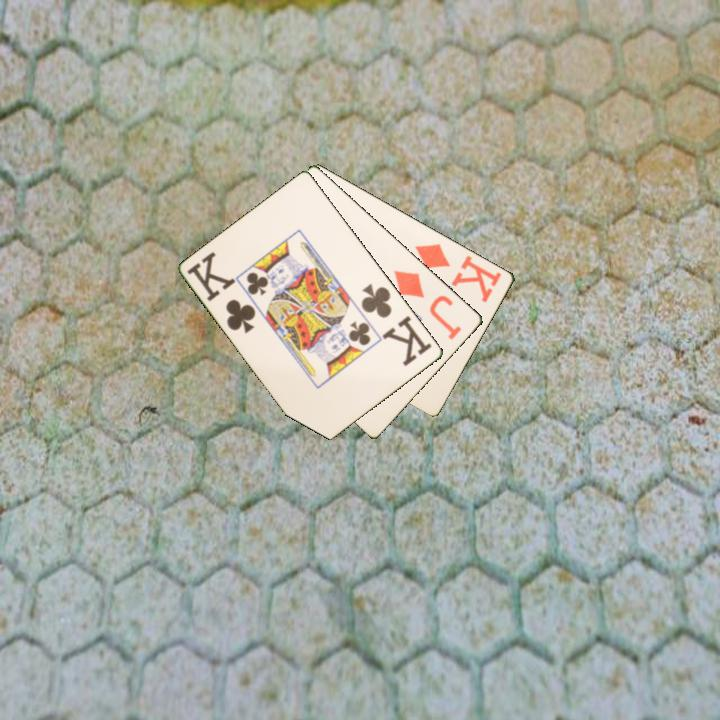Jd: (390, 266, 465, 343)
Kc: (358, 280, 435, 369), (184, 249, 259, 336)
Kd: (412, 239, 505, 305)
